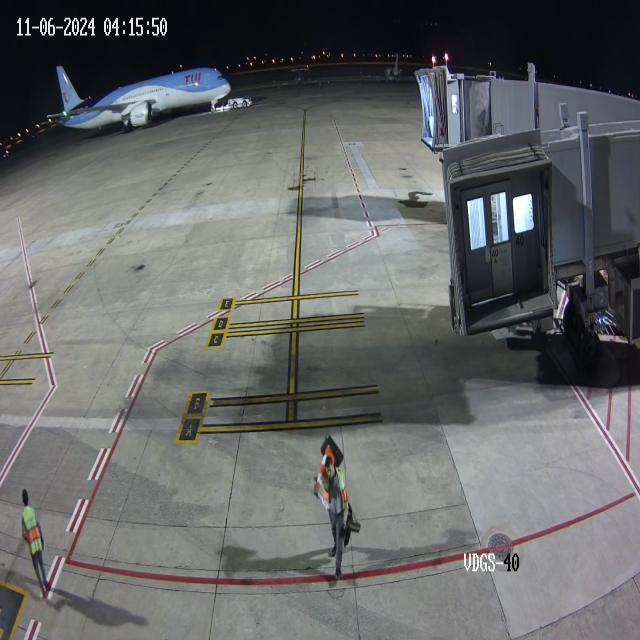bridge: (434, 66, 492, 150)
plane: (44, 0, 252, 145)
window: (216, 73, 226, 82)
